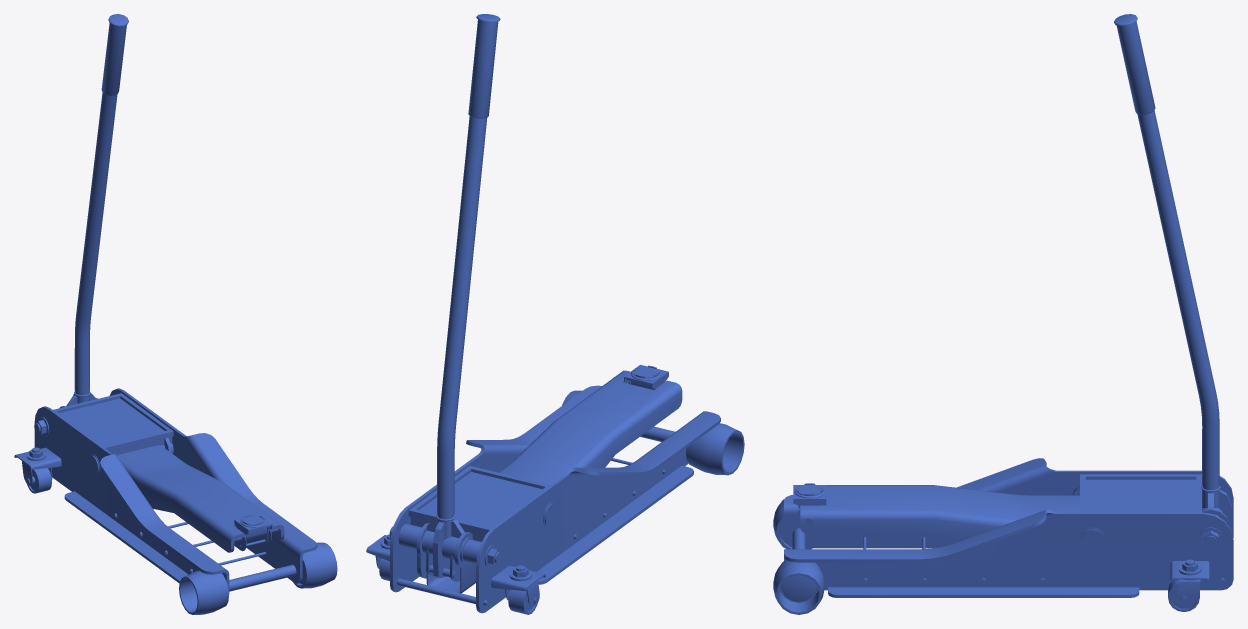
File: Service_Jack.fbx
The picture shows the model from 3 angles, left to right: view 1: azimuth 30°, elevation 25°; view 2: azimuth 150°, elevation 25°; view 3: azimuth 270°, elevation 25°; orthographic projection. The views are drawn at different scales.
Visible parts, largest first — view 1: Service_Jack, Service_Jack_Lever, Service_Jack_Handle, Service_Jack_Lever_Pad; view 2: Service_Jack, Service_Jack_Handle, Service_Jack_Lever, Service_Jack_Lever_Pad; view 3: Service_Jack, Service_Jack_Lever, Service_Jack_Handle, Service_Jack_Lever_Pad.
Boxes of the visible parts, x1=… form: Service_Jack: x1=14, y1=388, x2=337, y2=614; Service_Jack_Lever: x1=116, y1=445, x2=284, y2=552; Service_Jack_Handle: x1=59, y1=14, x2=128, y2=408; Service_Jack_Lever_Pad: x1=234, y1=514, x2=272, y2=547; Service_Jack: x1=366, y1=385, x2=744, y2=614; Service_Jack_Handle: x1=416, y1=14, x2=500, y2=581; Service_Jack_Lever: x1=498, y1=370, x2=682, y2=485; Service_Jack_Lever_Pad: x1=624, y1=364, x2=668, y2=389; Service_Jack: x1=773, y1=458, x2=1233, y2=614; Service_Jack_Lever: x1=797, y1=485, x2=1079, y2=541; Service_Jack_Handle: x1=1114, y1=14, x2=1231, y2=529; Service_Jack_Lever_Pad: x1=793, y1=483, x2=826, y2=505.
Bounding box in the file's own units: 31.75 × 105 × 77.83.
